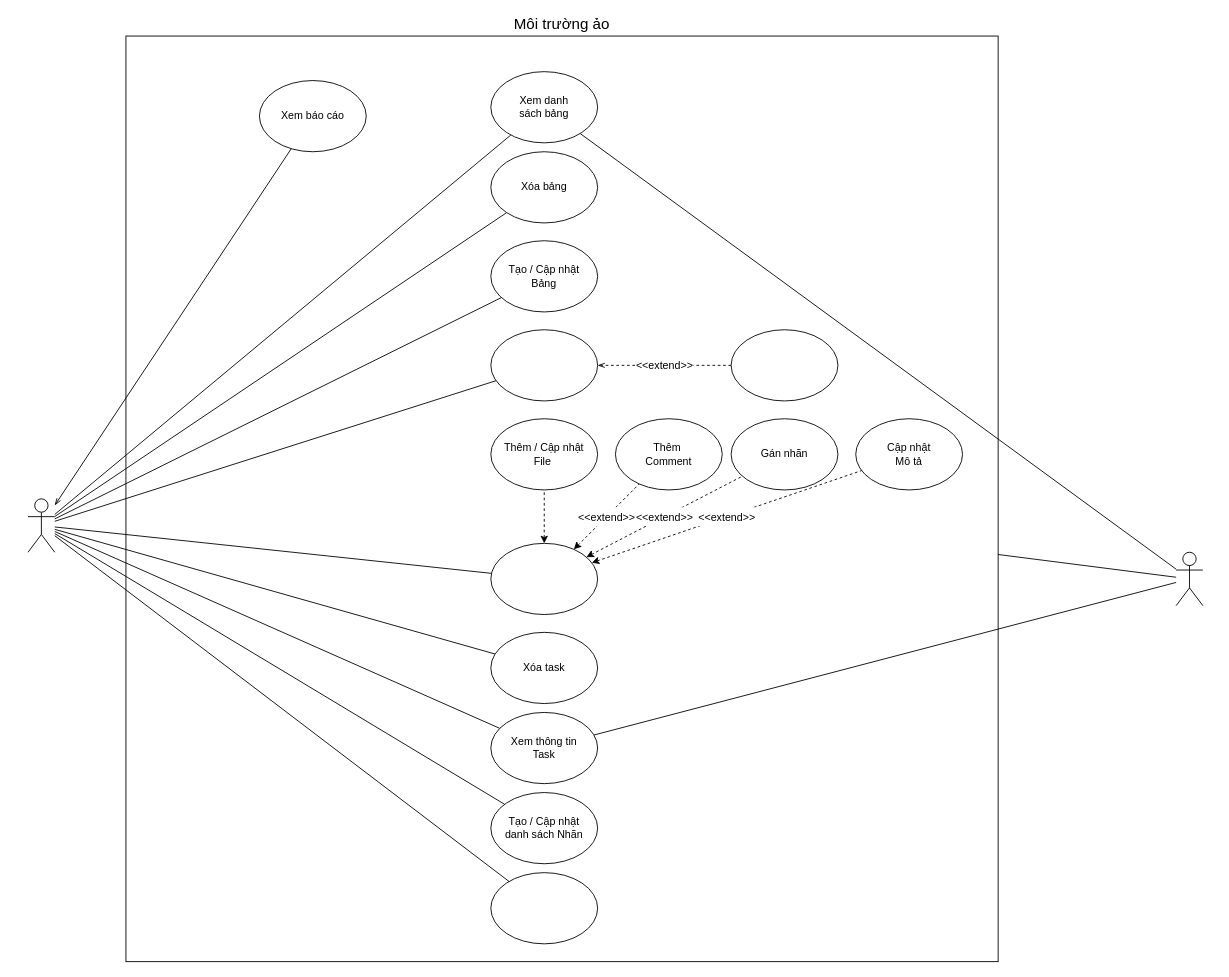
Image size: 1229x977. Some labels were removed from this diagram. The shapes that lost their labels are listed below. From the top down, each one's centre as x and y in pixels, then its label:
the point at 544,365: Tạo Task
the point at 784,365: Tạo Subtask
the point at 41,525: Team Lead
the point at 544,578: Cập nhật thông tin Task
the point at 1189,578: Nhân viên
the point at 544,908: Xem danh sách Nhãn
